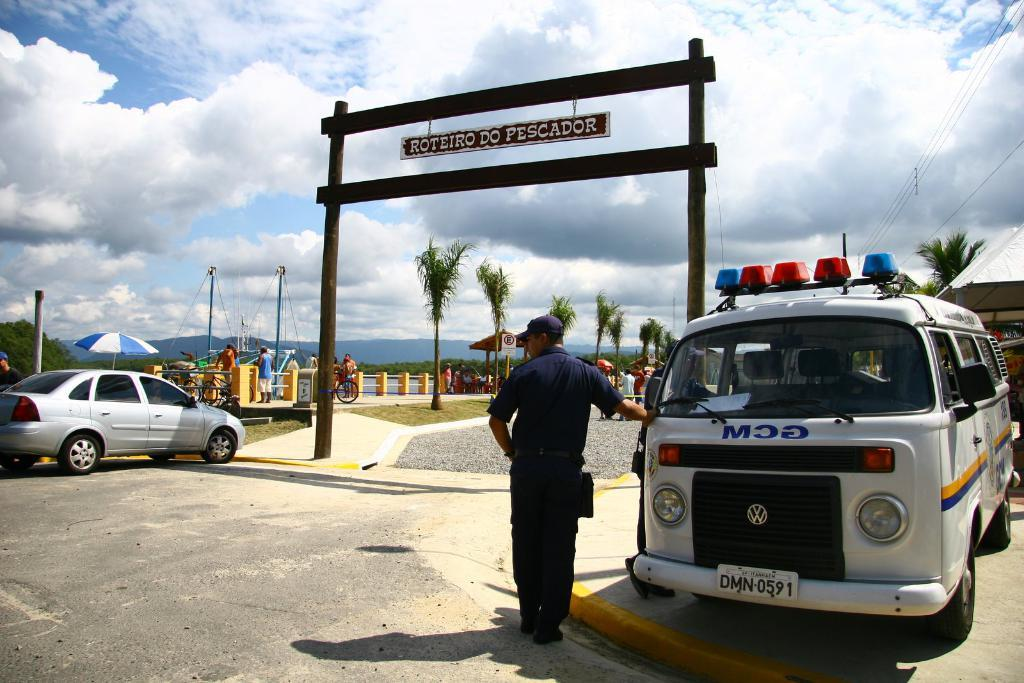vehicle: (636, 253, 1013, 642), (0, 368, 244, 475)
